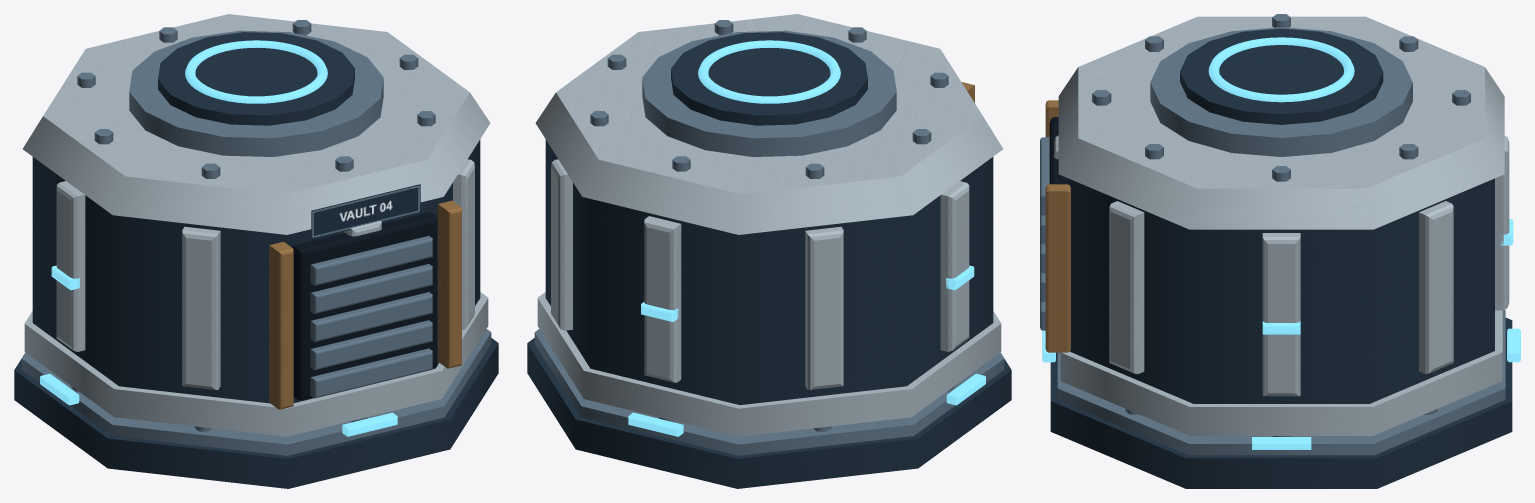
File: storage.glb
The picture shows the model from 3 angles, left to right: view 1: azimuth 30°, elevation 25°; view 2: azimuth 150°, elevation 25°; view 3: azimuth 270°, elevation 25°; orthographic projection. The views are drawn at different scales.
Parts seen in each view (by area): view 1: Ceramic titanium armor, Graphite composite, Brushed titanium, Carbon machinery, Copper heat exchanger, Status light (×2), Identification VAULT 04; view 2: Graphite composite, Ceramic titanium armor, Brushed titanium, Status light (×2); view 3: Graphite composite, Ceramic titanium armor, Brushed titanium, Status light (×2), Copper heat exchanger, Carbon machinery.
Boxes of the visible parts, x1,y1,x2,y2 form: Ceramic titanium armor: (23,14,490,436); Graphite composite: (14,32,498,488); Brushed titanium: (21,20,491,455); Carbon machinery: (292,212,437,400); Copper heat exchanger: (269,200,461,409); Status light (×2): (40,40,397,436); Identification VAULT 04: (311,184,420,239); Graphite composite: (527,32,1011,488); Ceramic titanium armor: (535,14,1002,436); Brushed titanium: (534,20,1004,455); Status light (×2): (628,40,985,436); Graphite composite: (1050,28,1512,488); Ceramic titanium armor: (1054,16,1509,435); Brushed titanium: (1040,14,1505,455); Status light (×2): (1042,37,1520,449); Copper heat exchanger: (1045,100,1070,352); Carbon machinery: (1049,117,1068,184).
Size of the model in its own units: 2.26 by 1.7 by 2.27.
7 materials, 6 textured.
